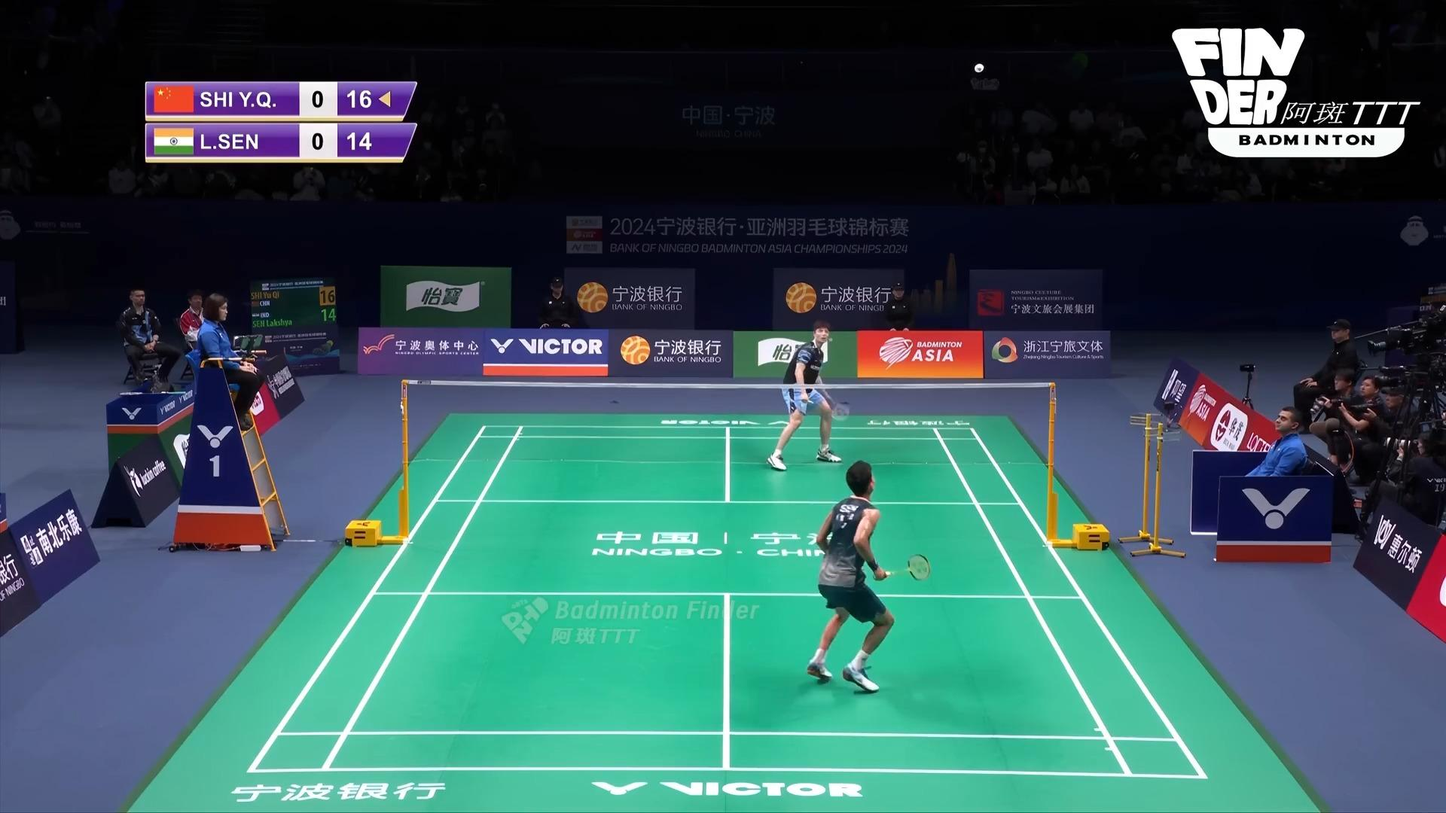shuttlecock: (972, 61, 984, 76)
